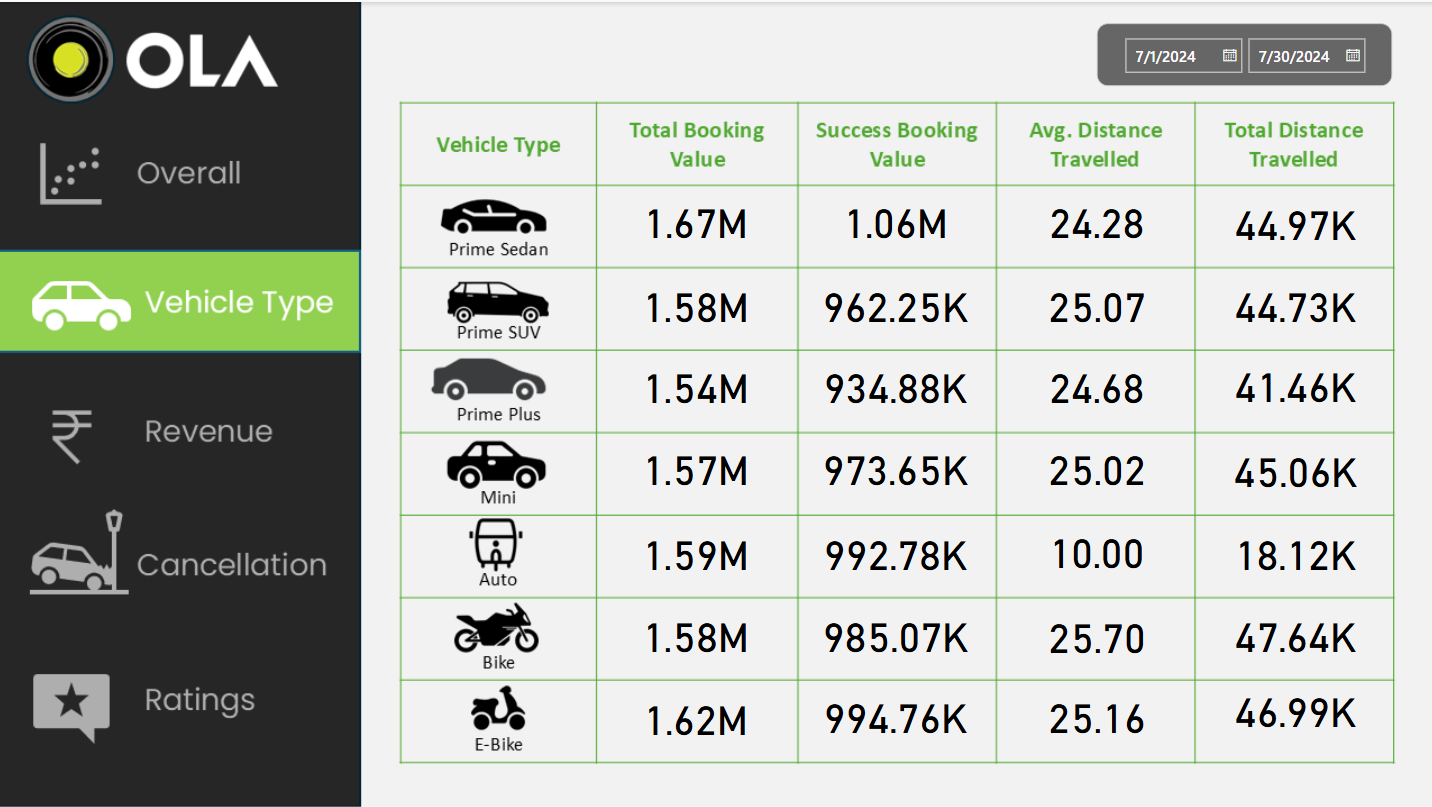

What the dashboard file says about the page in this screenshot:
{"tool":"powerbi","page":{"name":"Vehicle type","canvas":[1280,720],"ordinal":1},"visuals":[{"type":"actionButton","box":[0,340.2,324.5,90.5],"z":0},{"type":"actionButton","box":[0,447.6,324.5,90.5],"z":1000},{"type":"actionButton","box":[0,579.1,324.5,90.5],"z":2000},{"type":"actionButton","box":[0,111,324.5,90.5],"z":3000},{"type":"card","fields":{"Values":["Sum(Ola_bookings.Booking_Value)"]},"box":[537.9,166,167.4,67.2],"z":3001},{"type":"card","fields":{"Values":["Sum(Ola_bookings.Booking_Value)"]},"box":[537.9,240.1,167.4,67.2],"z":3002},{"type":"card","fields":{"Values":["Sum(Ola_bookings.Booking_Value)"]},"box":[537.9,312.9,167.4,67.2],"z":3003},{"type":"card","fields":{"Values":["Sum(Ola_bookings.Booking_Value)"]},"box":[537.9,385.6,167.4,67.2],"z":3004},{"type":"card","fields":{"Values":["Sum(Ola_bookings.Booking_Value)"]},"box":[537.9,461.1,167.4,67.2],"z":3005},{"type":"card","fields":{"Values":["Sum(Ola_bookings.Booking_Value)"]},"box":[537.9,533.8,167.4,67.2],"z":3006},{"type":"card","fields":{"Values":["Sum(Ola_bookings.Booking_Value)"]},"box":[537.9,607.9,167.4,67.2],"z":3007},{"type":"card","fields":{"Values":["Sum(Ola_bookings.Booking_Value)"]},"box":[716.3,166,167.4,67.2],"z":3008},{"type":"card","fields":{"Values":["Sum(Ola_bookings.Booking_Value)"]},"box":[716.3,240.1,167.4,67.2],"z":3009},{"type":"card","fields":{"Values":["Sum(Ola_bookings.Booking_Value)"]},"box":[716.3,312.9,167.4,67.2],"z":3010},{"type":"card","fields":{"Values":["Sum(Ola_bookings.Booking_Value)"]},"box":[716.3,385.6,167.4,67.2],"z":3011},{"type":"card","fields":{"Values":["Sum(Ola_bookings.Booking_Value)"]},"box":[716.3,461.1,167.4,67.2],"z":3012},{"type":"card","fields":{"Values":["Sum(Ola_bookings.Booking_Value)"]},"box":[716.3,533.8,167.4,67.2],"z":3013},{"type":"card","fields":{"Values":["Sum(Ola_bookings.Booking_Value)"]},"box":[716.3,606.5,167.4,67.2],"z":3014},{"type":"card","fields":{"Values":["Avg(Ola_bookings.Ride_Distance)"]},"box":[894.7,166,167.4,67.2],"z":3015},{"type":"card","fields":{"Values":["Avg(Ola_bookings.Ride_Distance)"]},"box":[894.7,240.1,167.4,67.2],"z":3016},{"type":"card","fields":{"Values":["Avg(Ola_bookings.Ride_Distance)"]},"box":[894.7,312.9,167.4,67.2],"z":3017},{"type":"card","fields":{"Values":["Avg(Ola_bookings.Ride_Distance)"]},"box":[894.7,385.6,167.4,67.2],"z":3018},{"type":"card","fields":{"Values":["Avg(Ola_bookings.Ride_Distance)"]},"box":[894.7,459.7,167.4,67.2],"z":3019},{"type":"card","fields":{"Values":["Avg(Ola_bookings.Ride_Distance)"]},"box":[894.7,535.2,167.4,67.2],"z":3020},{"type":"card","fields":{"Values":["Avg(Ola_bookings.Ride_Distance)"]},"box":[894.7,606.5,167.4,67.2],"z":3021},{"type":"card","fields":{"Values":["Sum(Ola_bookings.Ride_Distance)"]},"box":[1071.7,167.4,167.4,67.2],"z":3022},{"type":"card","fields":{"Values":["Sum(Ola_bookings.Ride_Distance)"]},"box":[1071.7,240.1,167.4,67.2],"z":3023},{"type":"card","fields":{"Values":["Sum(Ola_bookings.Ride_Distance)"]},"box":[1071.7,311.5,167.4,67.2],"z":3024},{"type":"card","fields":{"Values":["Sum(Ola_bookings.Ride_Distance)"]},"box":[1071.7,387,167.4,67.2],"z":3025},{"type":"card","fields":{"Values":["Sum(Ola_bookings.Ride_Distance)"]},"box":[1071.7,461.1,167.4,67.2],"z":3026},{"type":"card","fields":{"Values":["Sum(Ola_bookings.Ride_Distance)"]},"box":[1071.7,533.8,167.4,67.2],"z":3027},{"type":"card","fields":{"Values":["Sum(Ola_bookings.Ride_Distance)"]},"box":[1071.7,601,167.4,67.2],"z":3028},{"type":"slicer","title":"Date","fields":{"Values":["Ola_bookings.Date"]},"box":[978.4,19.2,263.5,56.3],"z":3029}]}

Visuals, with their boxes in screenshot pixels (x1, y1, x2, y2), scaled from the page's 1280x720 canvas onto the 1432x807 screenshot:
actionButton: crop(0, 381, 363, 483)
actionButton: crop(0, 502, 363, 603)
actionButton: crop(0, 649, 363, 751)
actionButton: crop(0, 124, 363, 226)
card - Sum(Ola_bookings.Booking_Value): crop(602, 186, 789, 261)
card - Sum(Ola_bookings.Booking_Value): crop(602, 269, 789, 344)
card - Sum(Ola_bookings.Booking_Value): crop(602, 351, 789, 426)
card - Sum(Ola_bookings.Booking_Value): crop(602, 432, 789, 508)
card - Sum(Ola_bookings.Booking_Value): crop(602, 517, 789, 592)
card - Sum(Ola_bookings.Booking_Value): crop(602, 598, 789, 674)
card - Sum(Ola_bookings.Booking_Value): crop(602, 681, 789, 757)
card - Sum(Ola_bookings.Booking_Value): crop(801, 186, 989, 261)
card - Sum(Ola_bookings.Booking_Value): crop(801, 269, 989, 344)
card - Sum(Ola_bookings.Booking_Value): crop(801, 351, 989, 426)
card - Sum(Ola_bookings.Booking_Value): crop(801, 432, 989, 508)
card - Sum(Ola_bookings.Booking_Value): crop(801, 517, 989, 592)
card - Sum(Ola_bookings.Booking_Value): crop(801, 598, 989, 674)
card - Sum(Ola_bookings.Booking_Value): crop(801, 680, 989, 755)
card - Avg(Ola_bookings.Ride_Distance): crop(1001, 186, 1188, 261)
card - Avg(Ola_bookings.Ride_Distance): crop(1001, 269, 1188, 344)
card - Avg(Ola_bookings.Ride_Distance): crop(1001, 351, 1188, 426)
card - Avg(Ola_bookings.Ride_Distance): crop(1001, 432, 1188, 508)
card - Avg(Ola_bookings.Ride_Distance): crop(1001, 515, 1188, 591)
card - Avg(Ola_bookings.Ride_Distance): crop(1001, 600, 1188, 675)
card - Avg(Ola_bookings.Ride_Distance): crop(1001, 680, 1188, 755)
card - Sum(Ola_bookings.Ride_Distance): crop(1199, 188, 1386, 263)
card - Sum(Ola_bookings.Ride_Distance): crop(1199, 269, 1386, 344)
card - Sum(Ola_bookings.Ride_Distance): crop(1199, 349, 1386, 424)
card - Sum(Ola_bookings.Ride_Distance): crop(1199, 434, 1386, 509)
card - Sum(Ola_bookings.Ride_Distance): crop(1199, 517, 1386, 592)
card - Sum(Ola_bookings.Ride_Distance): crop(1199, 598, 1386, 674)
card - Sum(Ola_bookings.Ride_Distance): crop(1199, 674, 1386, 749)
"Date" slicer: crop(1095, 22, 1389, 85)
